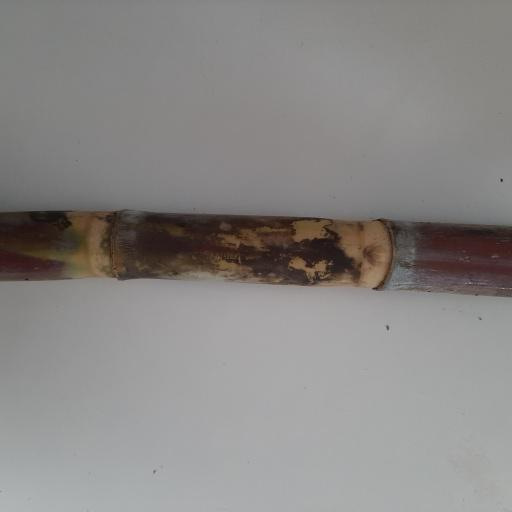Bud: (360, 241, 393, 269)
